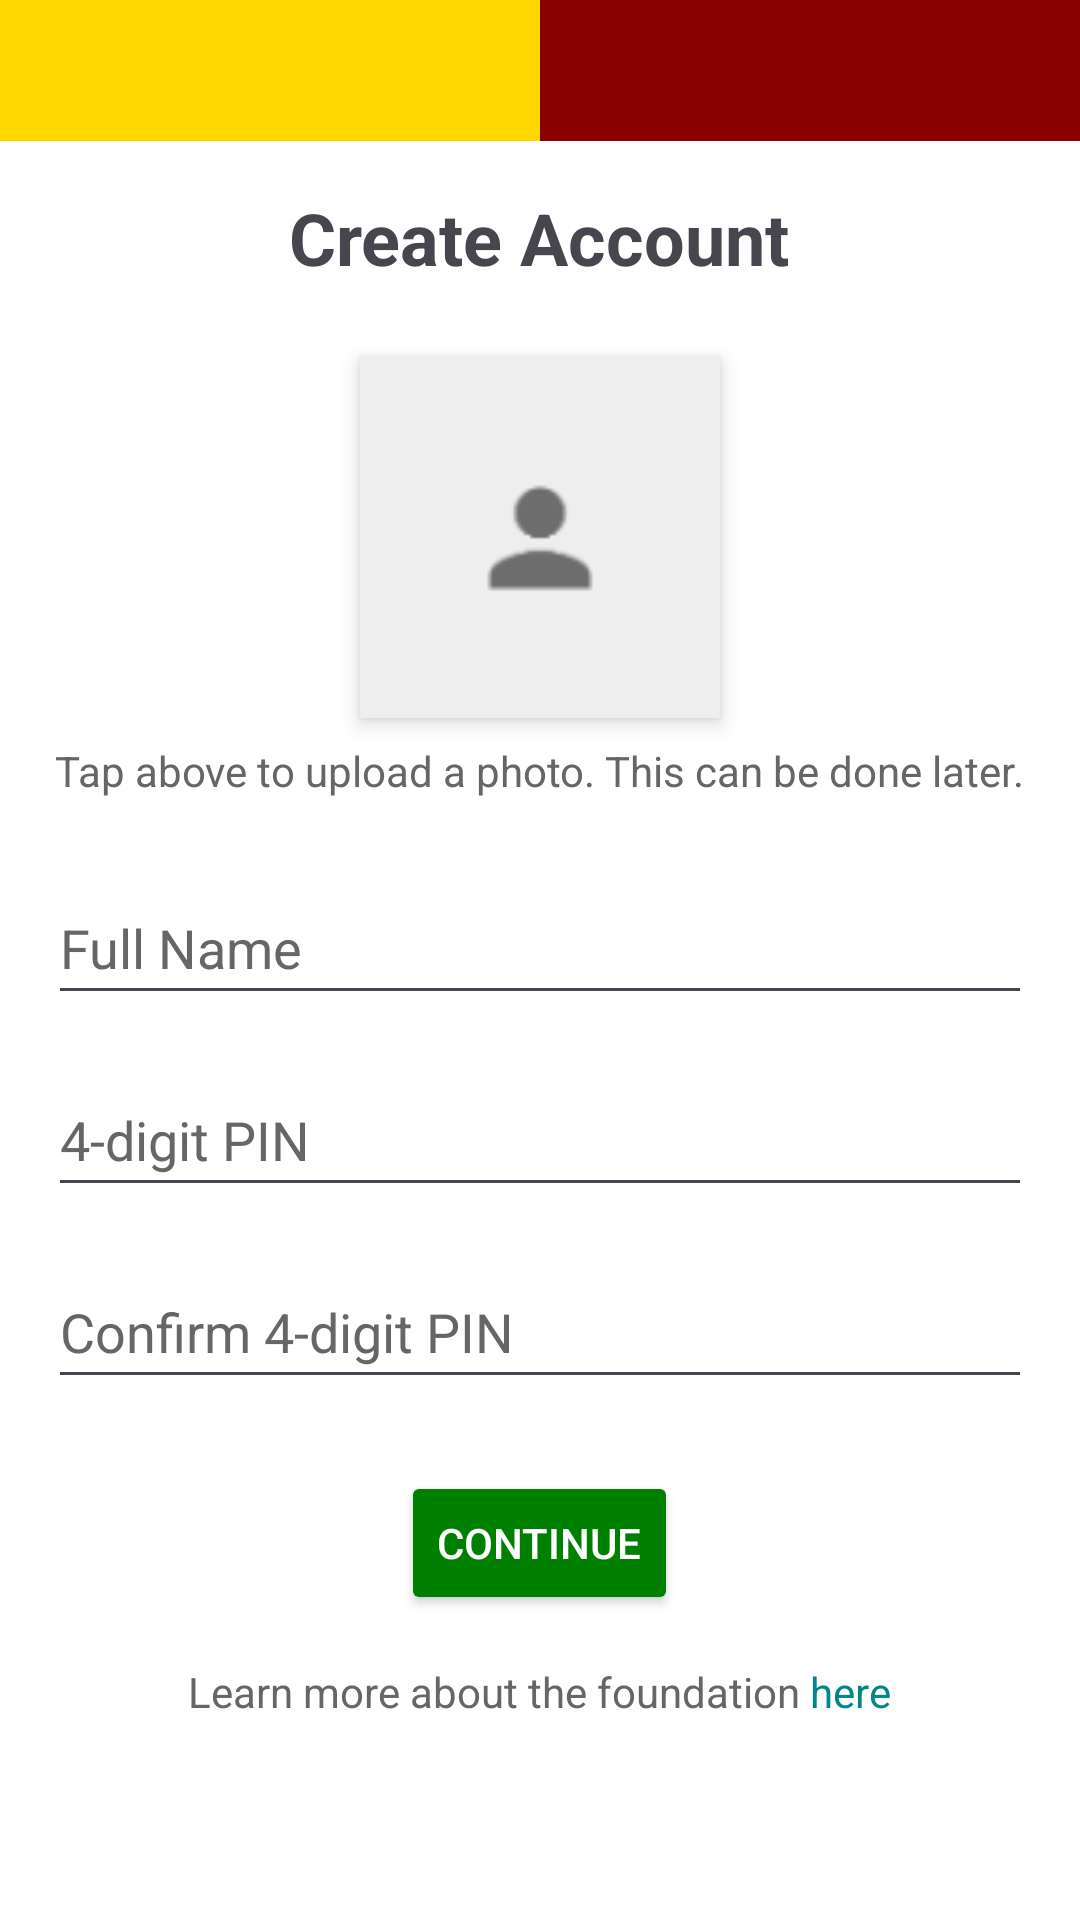

Screen size 1080 × 1920. Icon name, then its center in pixels as (x=x, y=y):
Profile Picture: (x=540, y=538)
